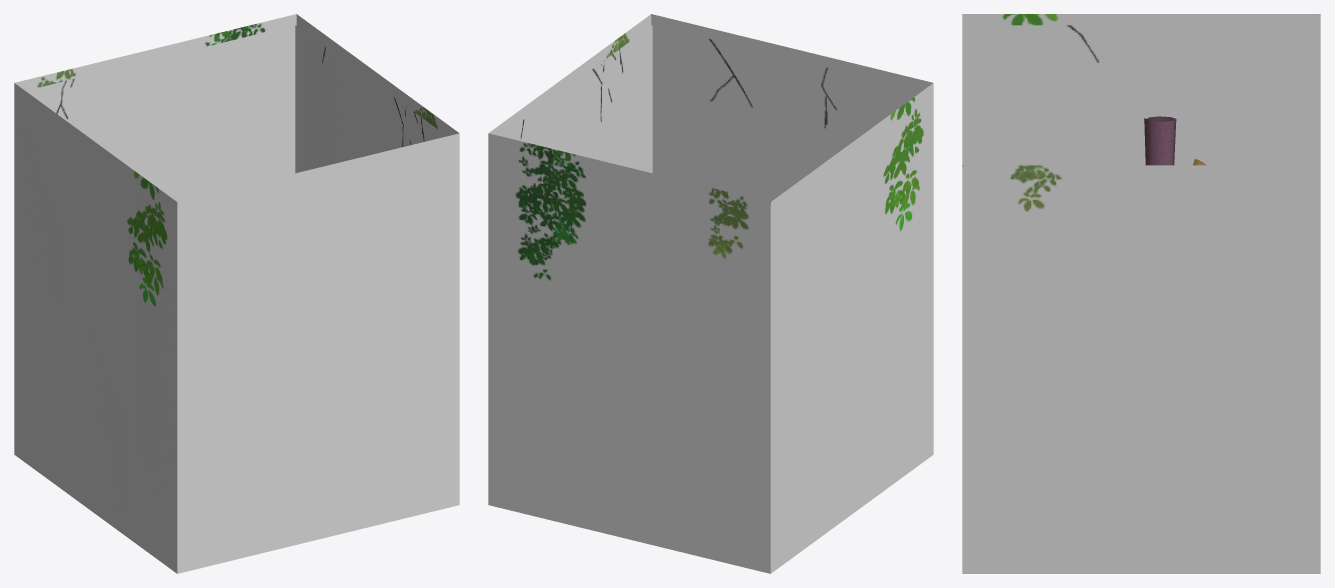
The model's file is map_all_4.fbx.
3 renders of one model, left to right at view 1: azimuth 30°, elevation 25°; view 2: azimuth 150°, elevation 25°; view 3: azimuth 270°, elevation 25°, orthographic. The views are drawn at different scales.
Parts seen in each view (by area): view 1: stone_vine_1, stone_walldeco_1; view 2: stone_vine_1, stone_walldeco_1; view 3: stone_vine_1, stone_walldeco_1, jars.
Boxes of the visible parts, x1=… form: stone_vine_1: x1=14, y1=14, x2=459, y2=573; stone_walldeco_1: x1=25, y1=25, x2=446, y2=201; stone_vine_1: x1=488, y1=14, x2=933, y2=573; stone_walldeco_1: x1=501, y1=25, x2=922, y2=201; stone_vine_1: x1=962, y1=14, x2=1320, y2=573; stone_walldeco_1: x1=966, y1=25, x2=1316, y2=165; jars: x1=1144, y1=116, x2=1206, y2=165.
Size of the model in its own units: 2.06 by 2.62 by 2.06.
